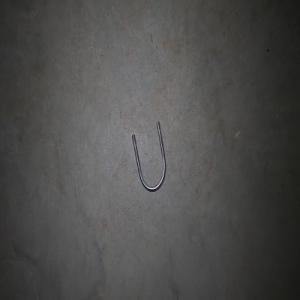ClampPart: (130, 119, 166, 193)
